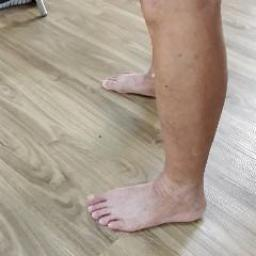Lateral View -Left Foot-: (76, 156, 220, 244)
